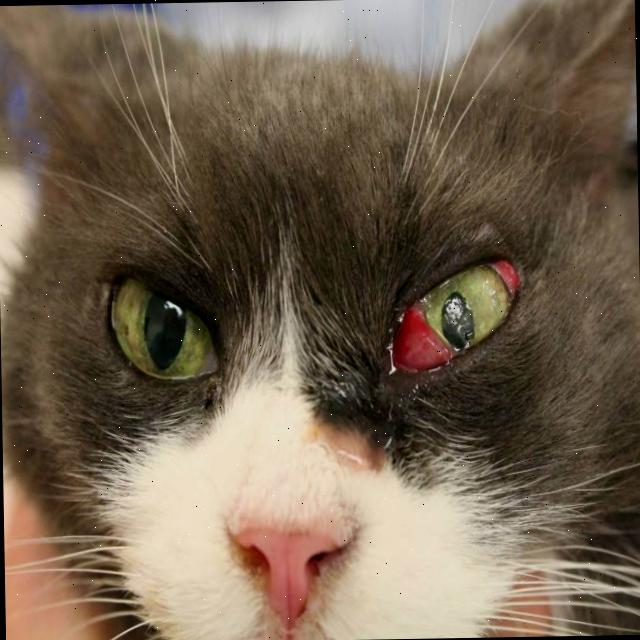cat-eye: (359, 232, 536, 394)
cat-eye-normal: (66, 235, 254, 420)
